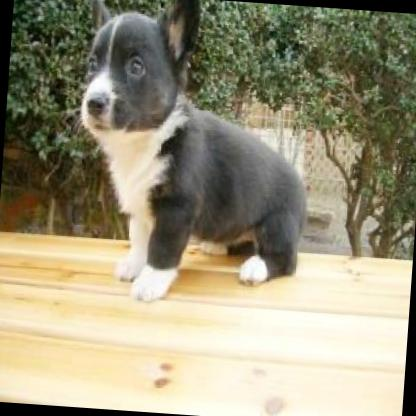Cardigan: (65, 0, 320, 314)
